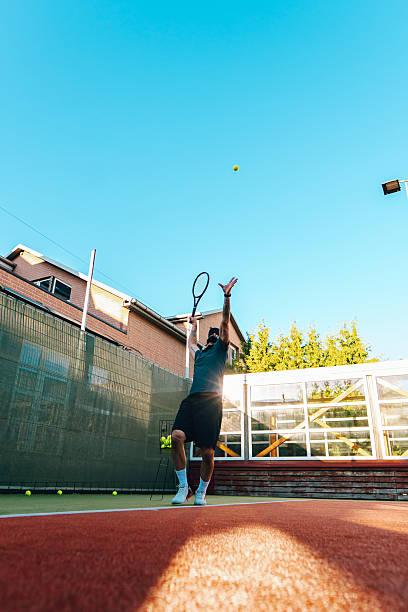ball_tennis: (232, 166, 239, 173), (25, 490, 31, 496), (57, 490, 63, 495), (112, 490, 117, 495)
